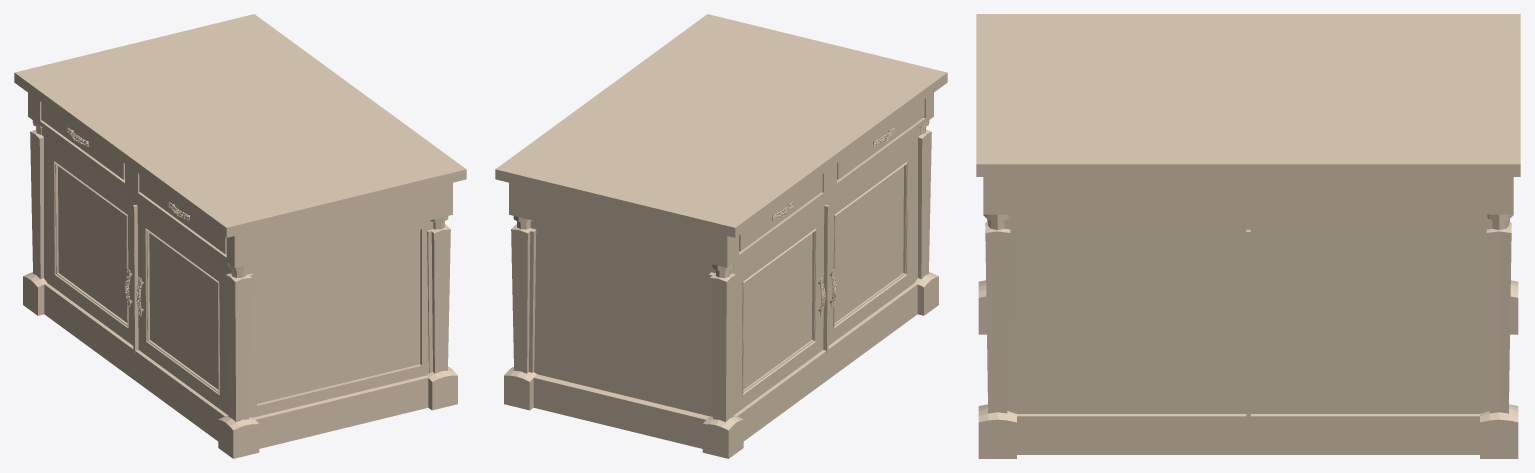
Rendered from szafa.fbx.
3 views of the same model, side by side, from view 1: azimuth 30°, elevation 25°; view 2: azimuth 150°, elevation 25°; view 3: azimuth 270°, elevation 25° (orthographic). The views are drawn at different scales.
Visible parts, largest first — view 1: szafa; view 2: szafa; view 3: szafa.
Boxes of the visible parts, x1,y1,x2,y2 form: szafa: [14, 14, 466, 458]; szafa: [495, 14, 947, 458]; szafa: [976, 14, 1520, 458].
Size of the model in its own units: 1847 by 1718 by 2829.
